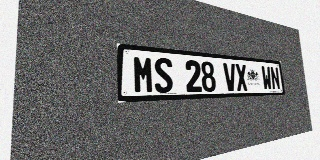2: (185, 60, 202, 92)
8: (200, 61, 216, 92)
M: (133, 55, 154, 94)
N: (270, 66, 281, 90)
S: (154, 57, 173, 93)
V: (223, 63, 237, 91)
W: (261, 66, 272, 90)
X: (235, 64, 248, 91)
